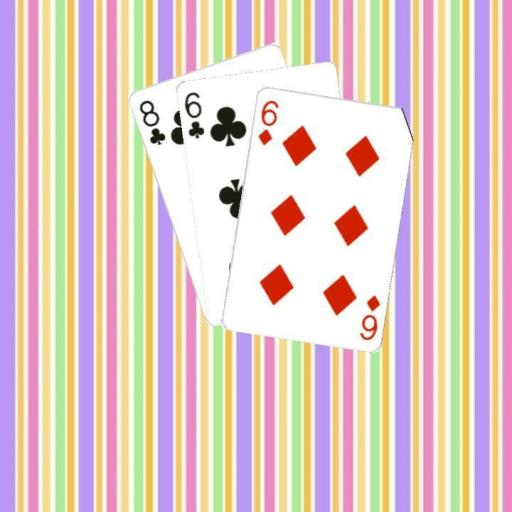card-corner: (135, 96, 167, 146), (180, 88, 206, 140), (255, 96, 280, 146), (356, 292, 381, 342)
